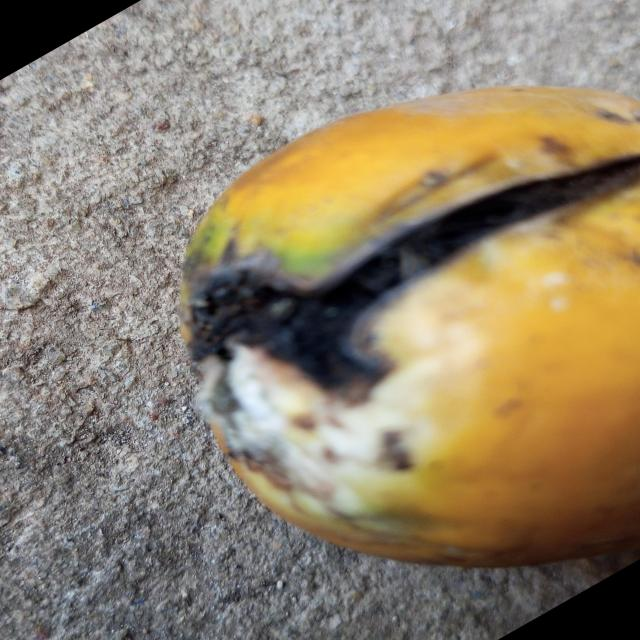damaged: (180, 87, 640, 566)
